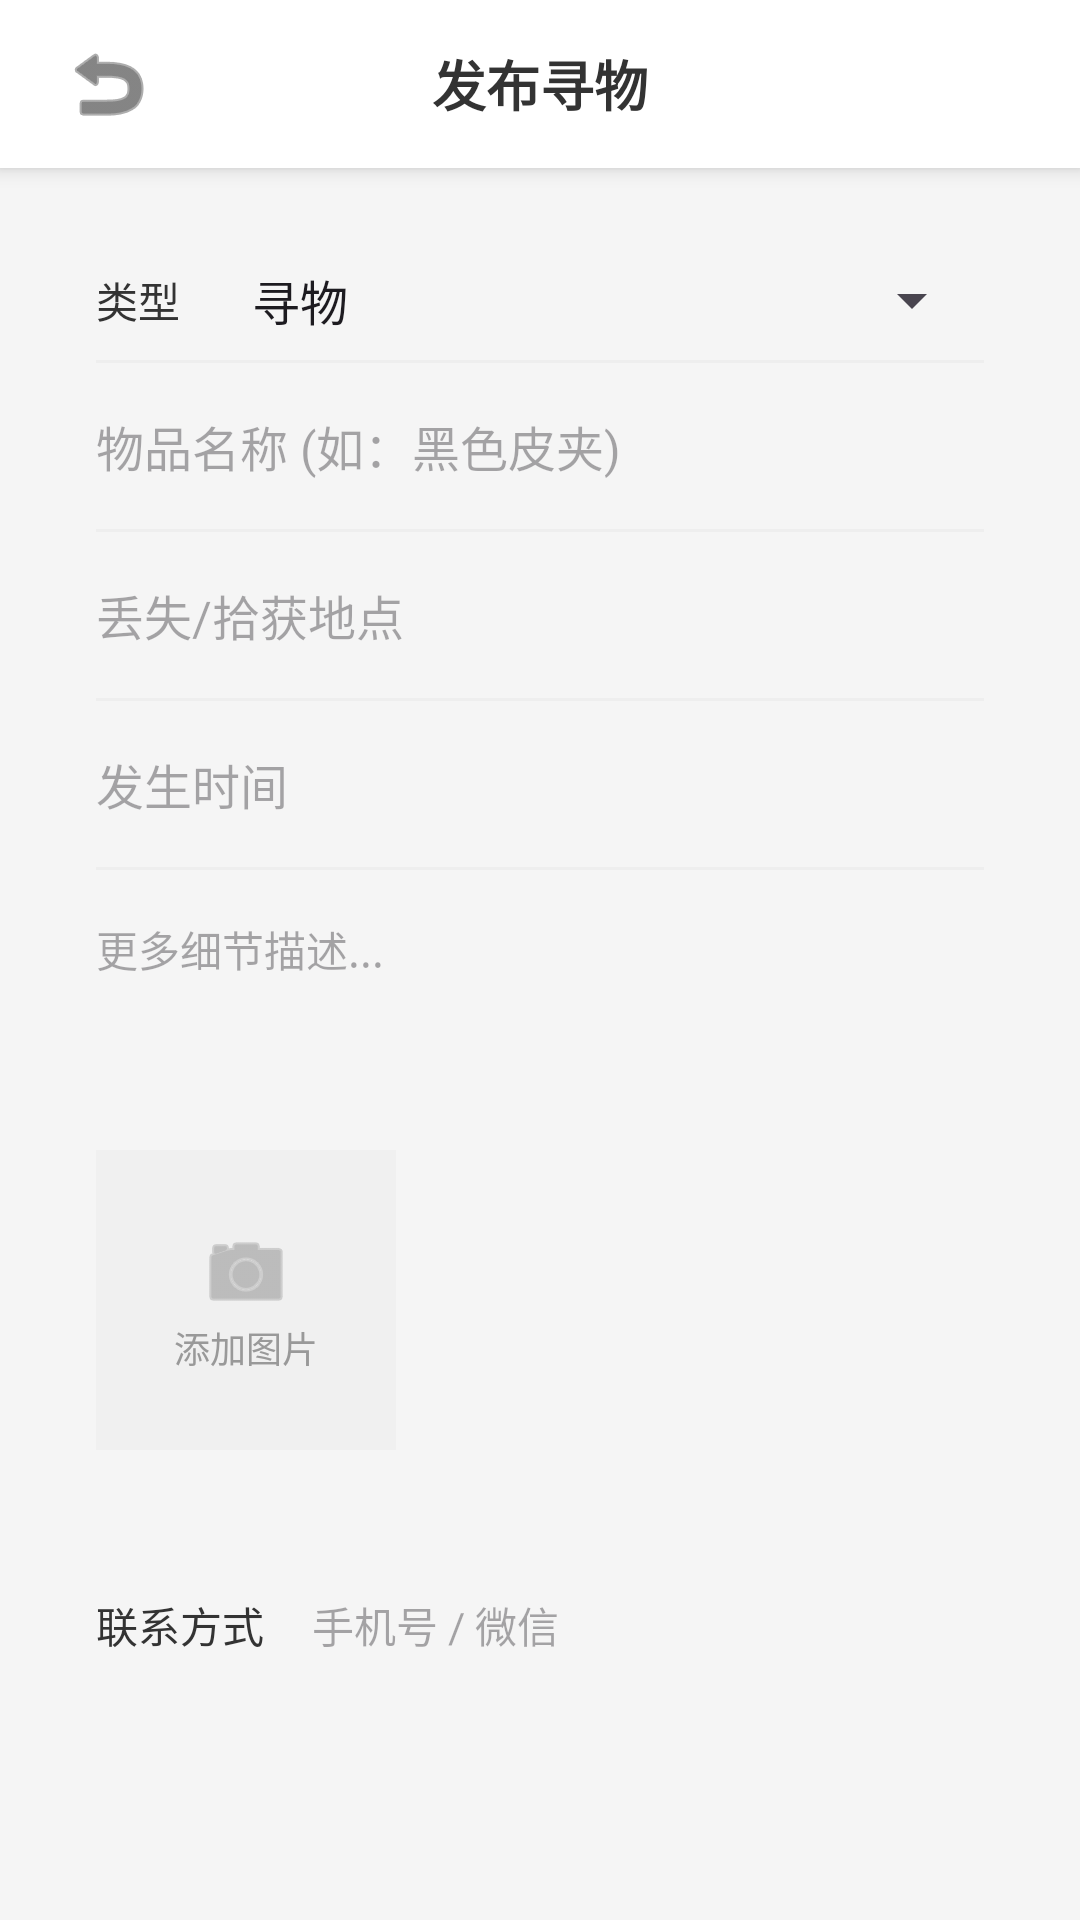

Point at icon controls on the screen. Image size 1080px×1920px, points as point (x, y).
camera: point (246, 1271)
revert: point (109, 84)
